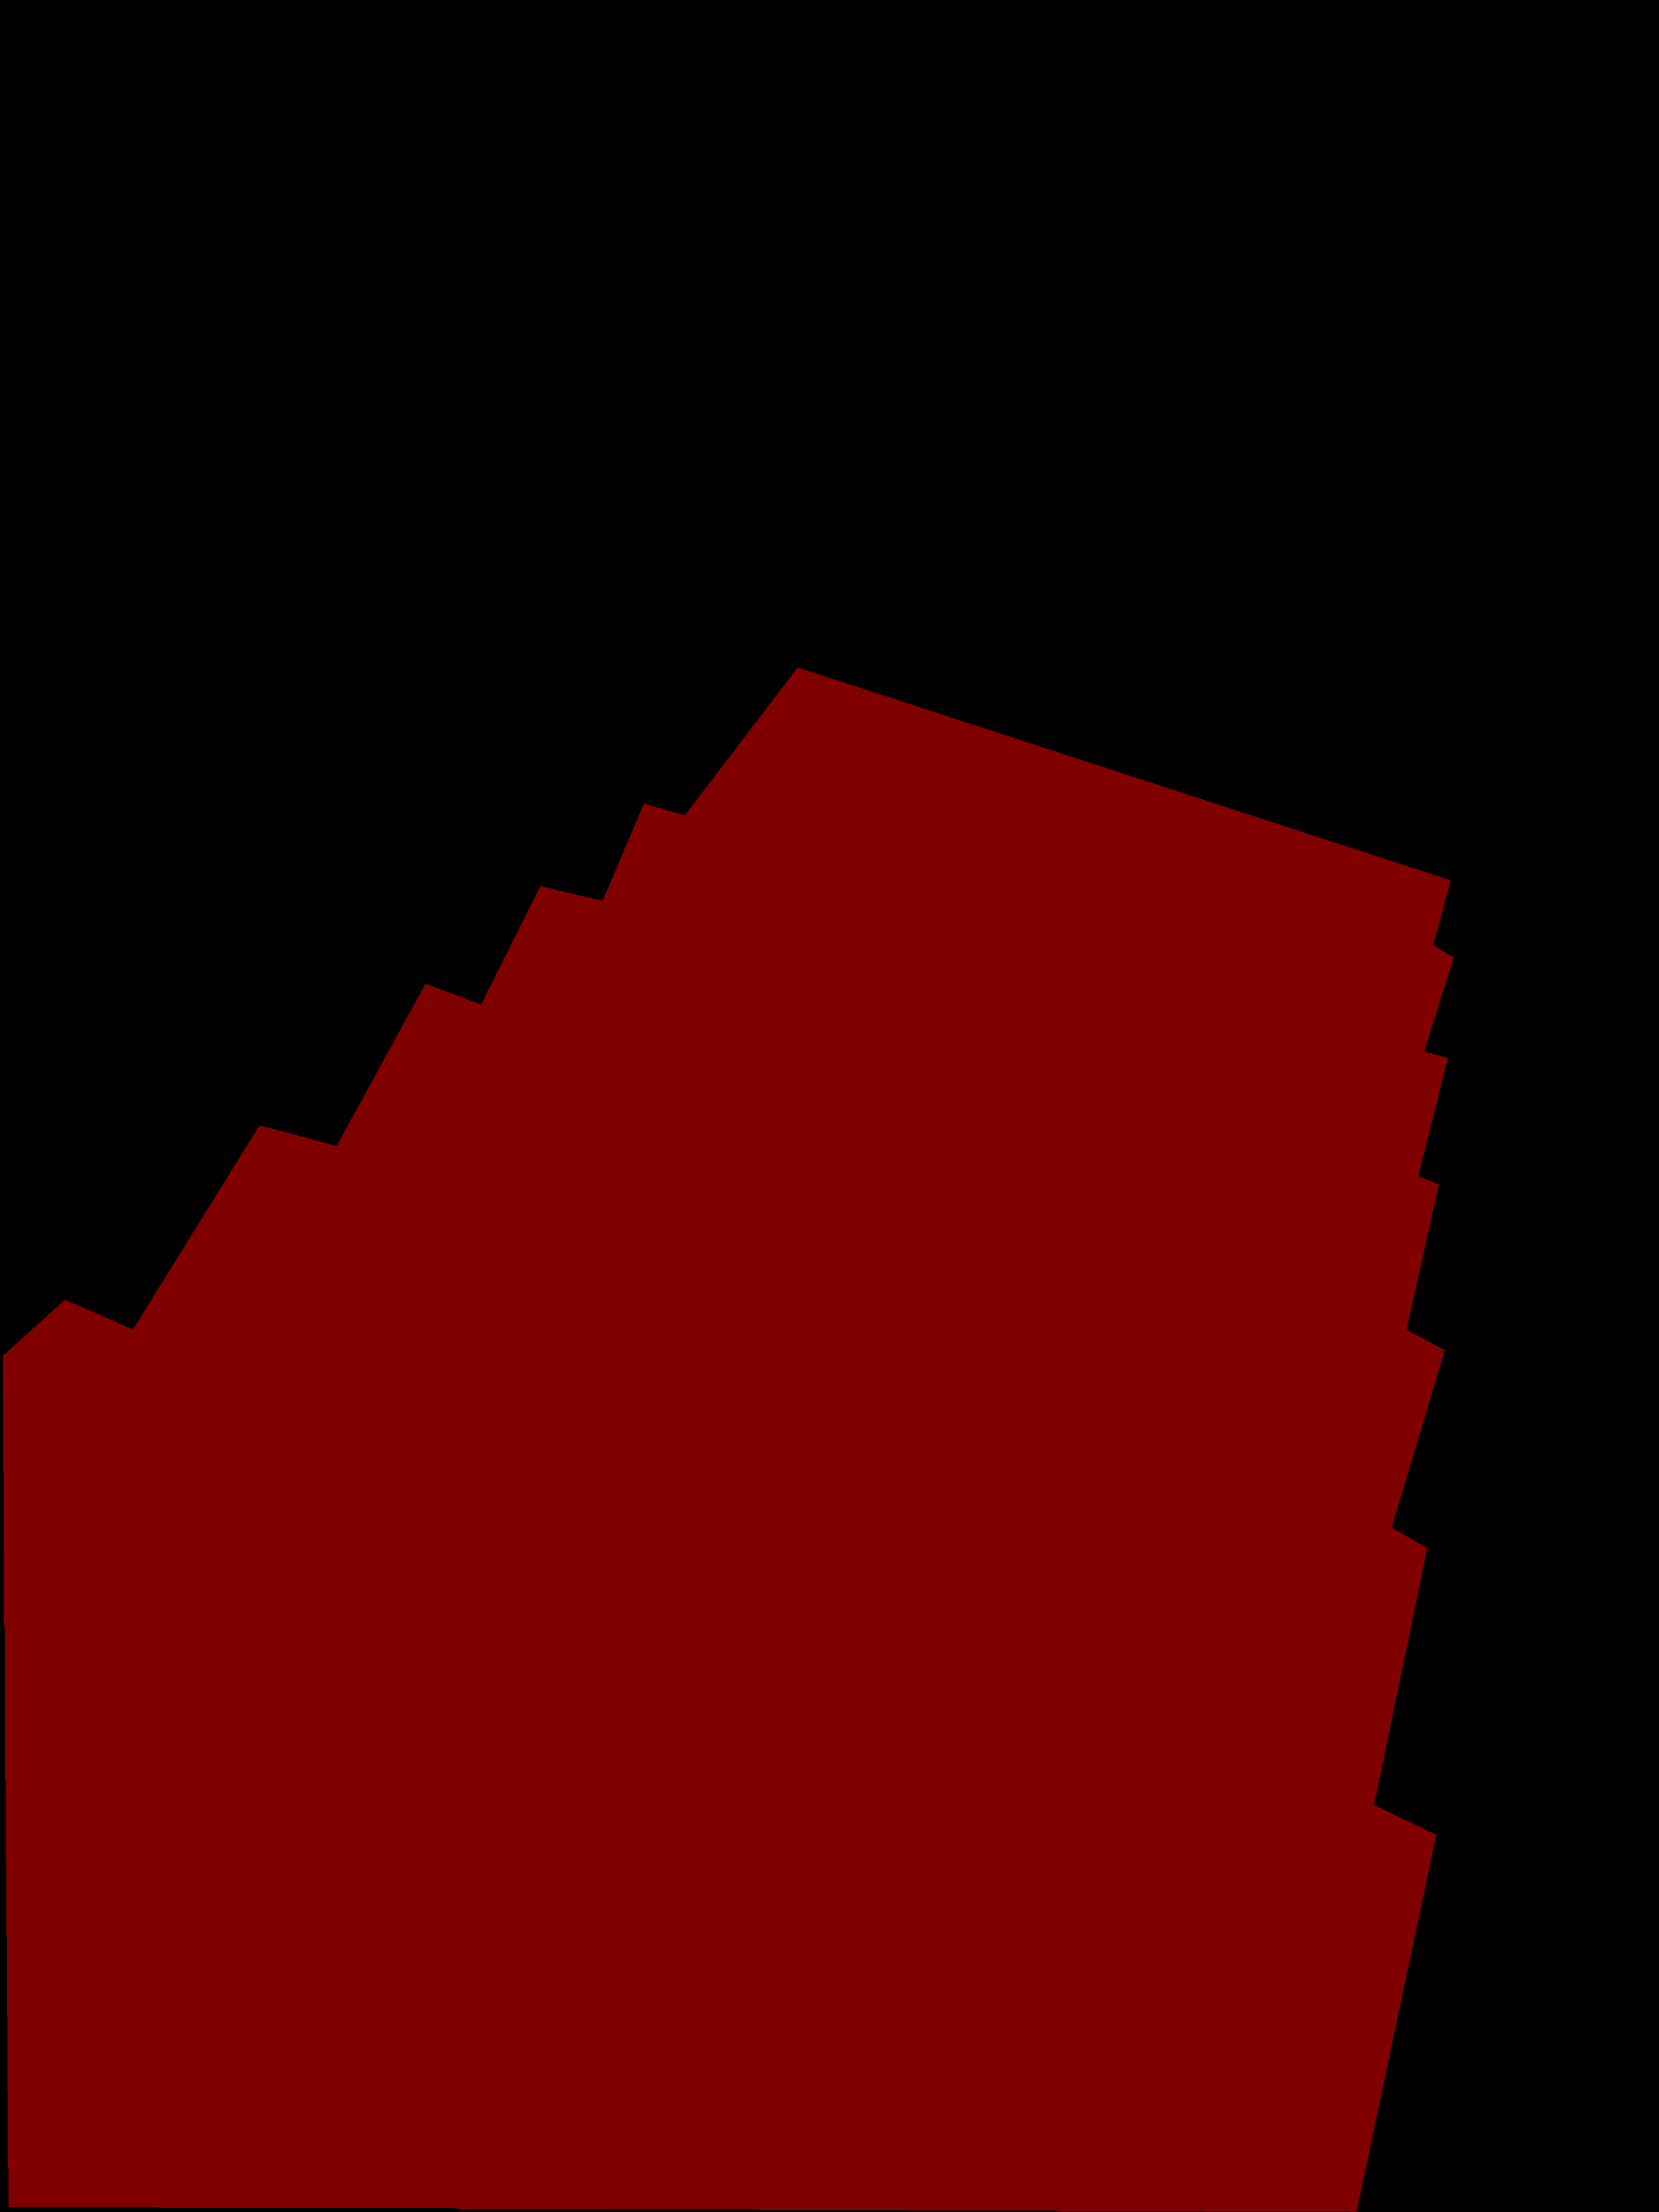stair: (3, 667, 1453, 2212)
